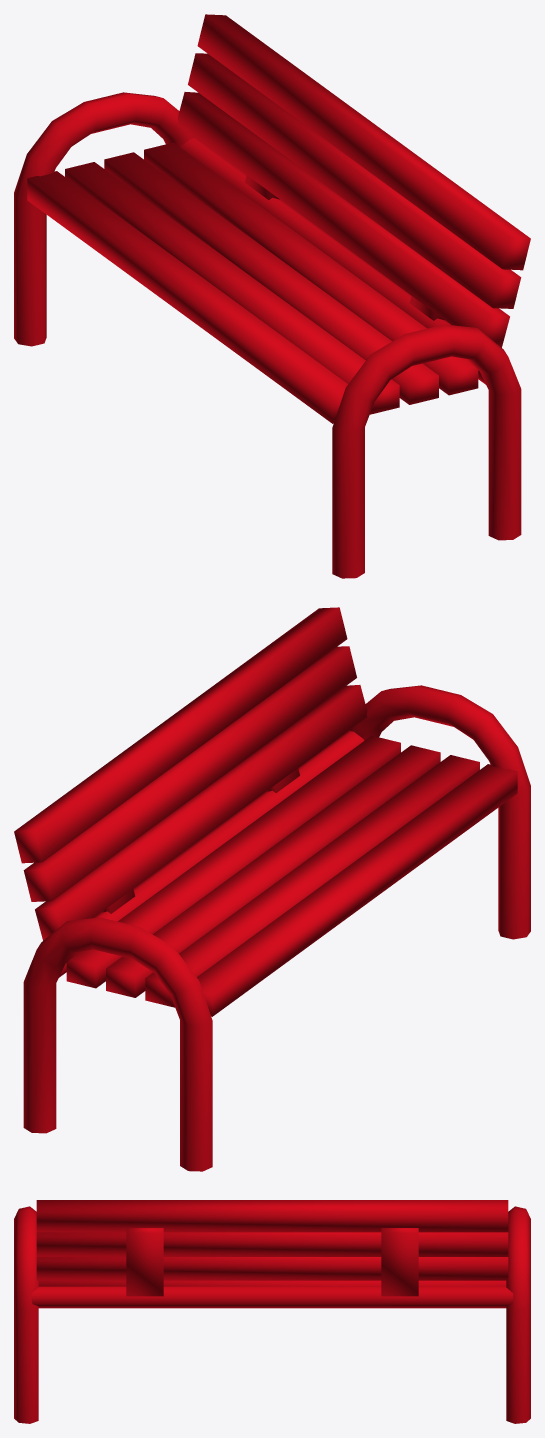
File: Bench.fbx
The picture shows the model from 3 angles, top to bottom: view 1: azimuth 30°, elevation 25°; view 2: azimuth 150°, elevation 25°; view 3: azimuth 270°, elevation 25°; orthographic projection. The views are drawn at different scales.
Parts seen in each view (by area): view 1: Bench; view 2: Bench; view 3: Bench.
Part boxes in pixels (<box>): Bench: <box>14,14,530,578</box>; Bench: <box>14,607,530,1171</box>; Bench: <box>14,1200,530,1423</box>.
Size of the model in its own units: 128 by 171 by 360.
